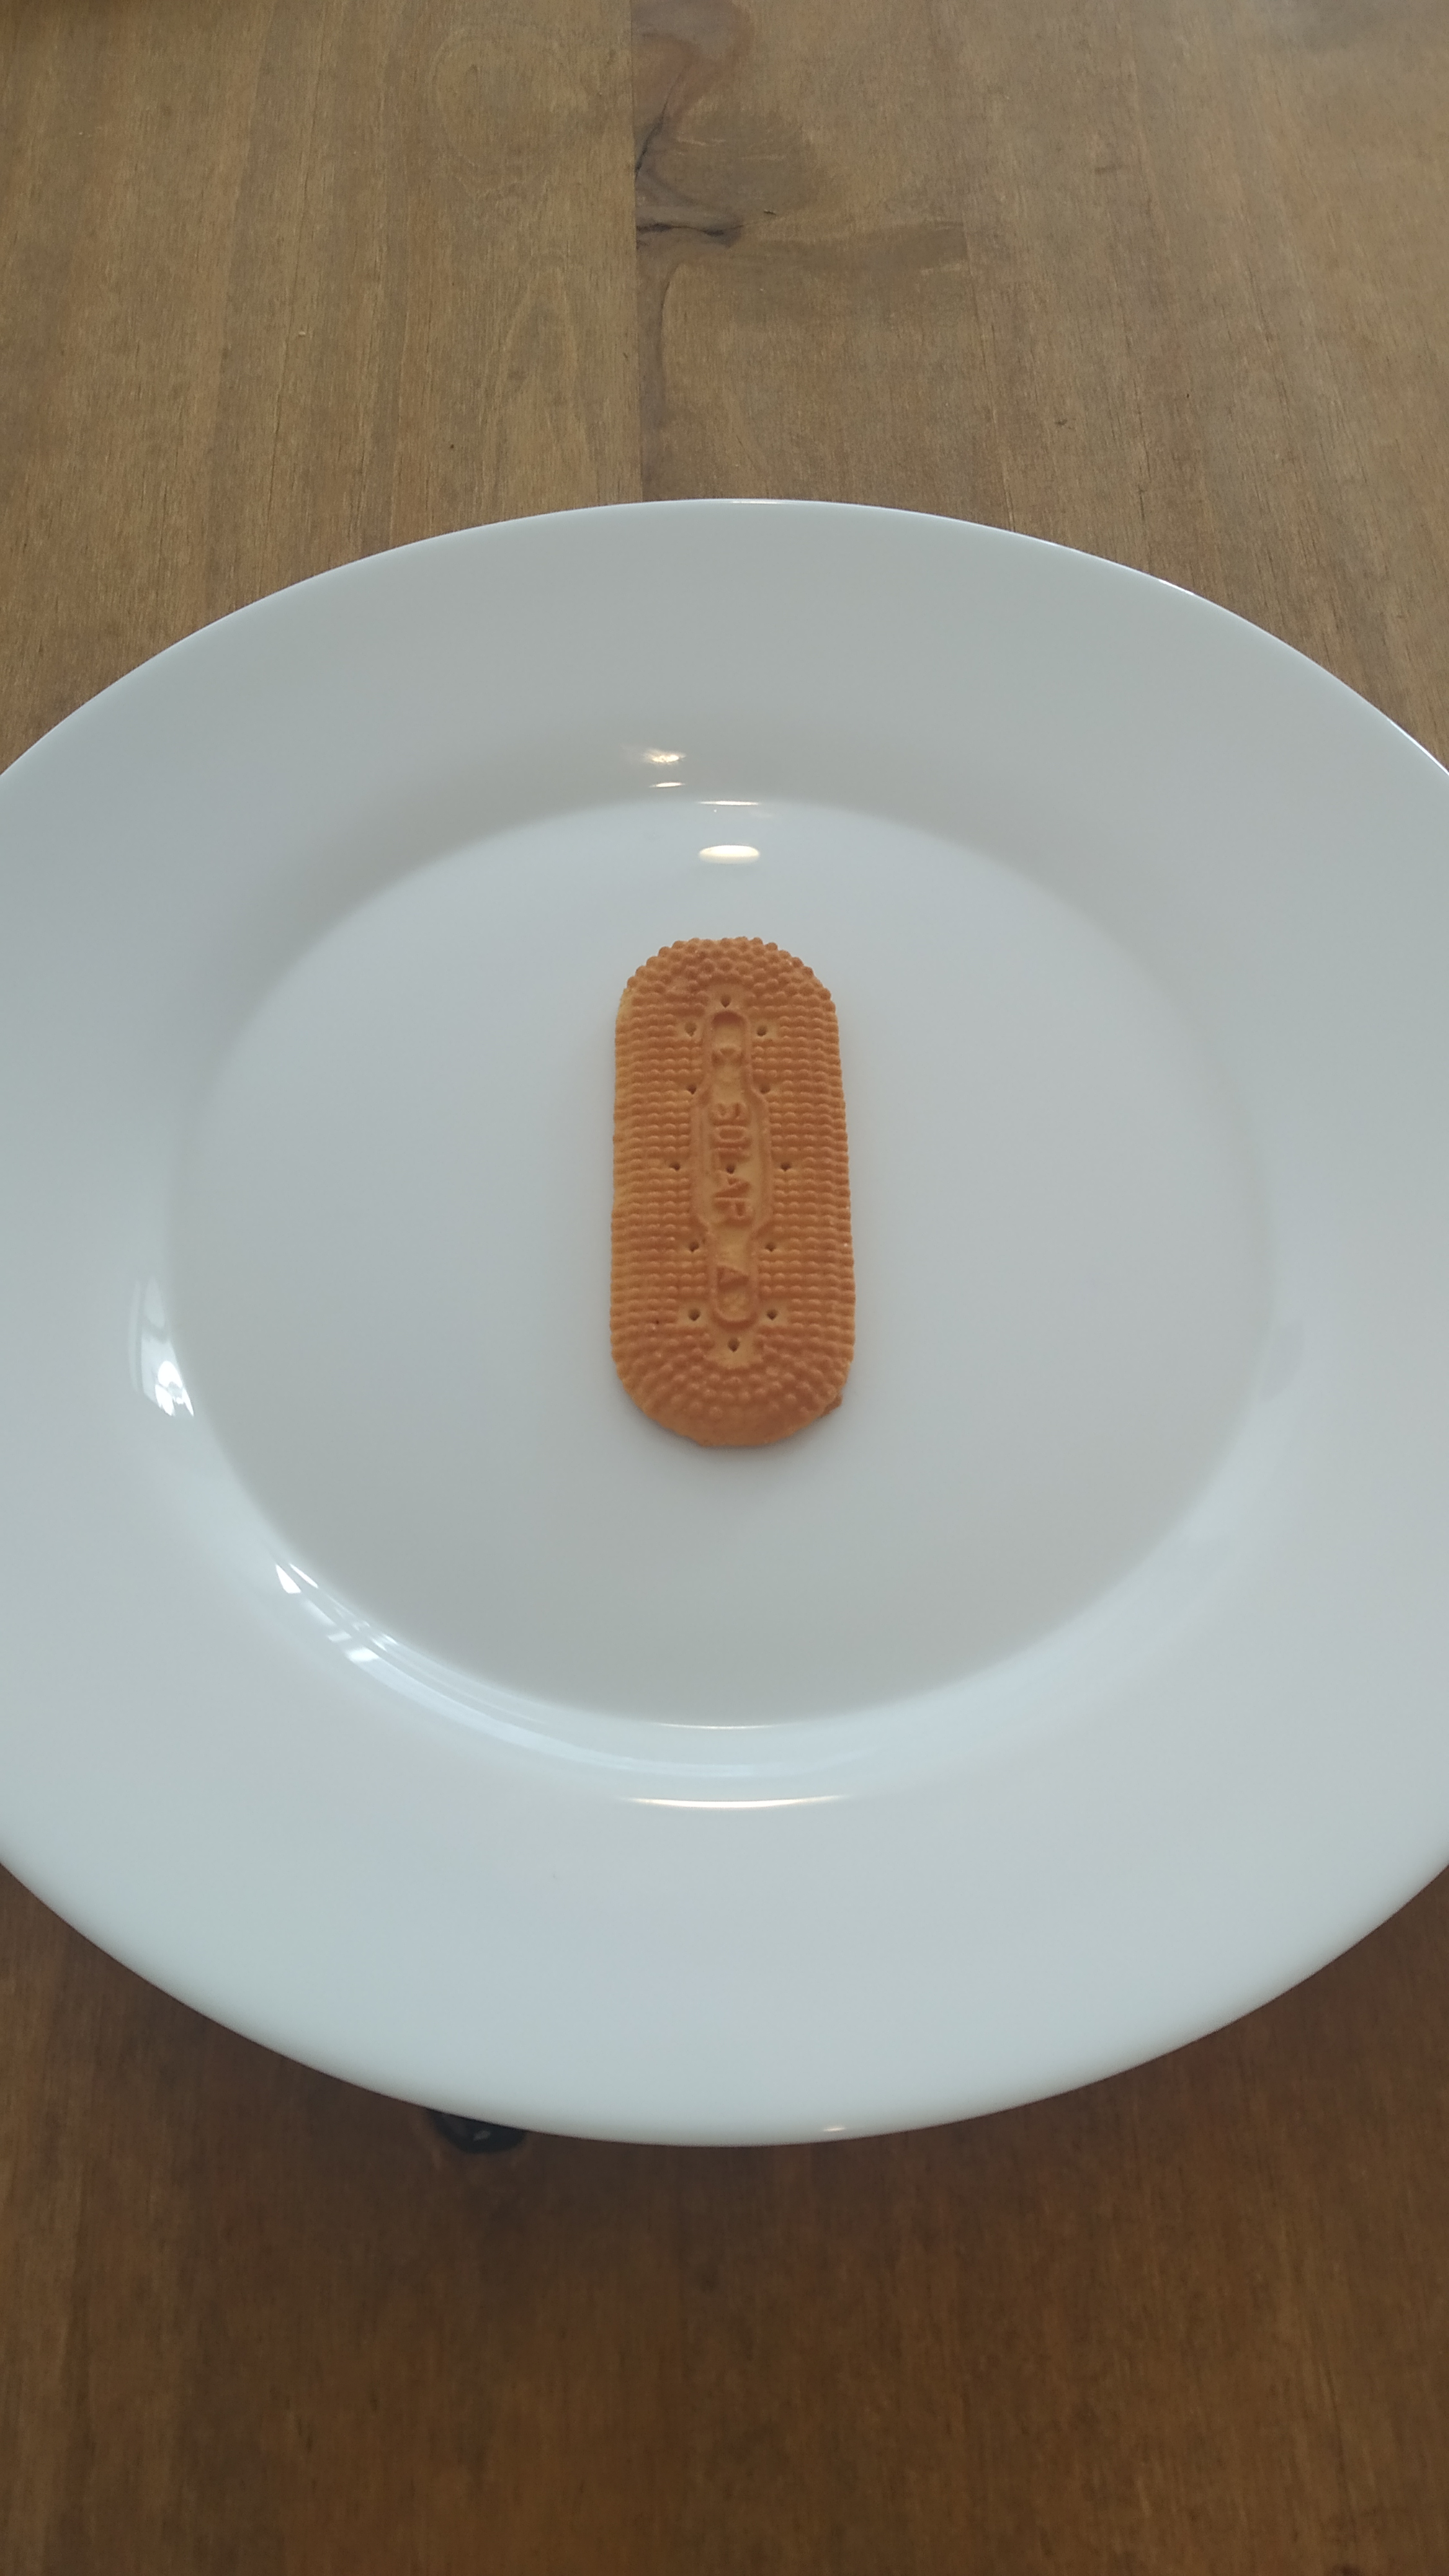solar: (610, 938, 856, 1449)
